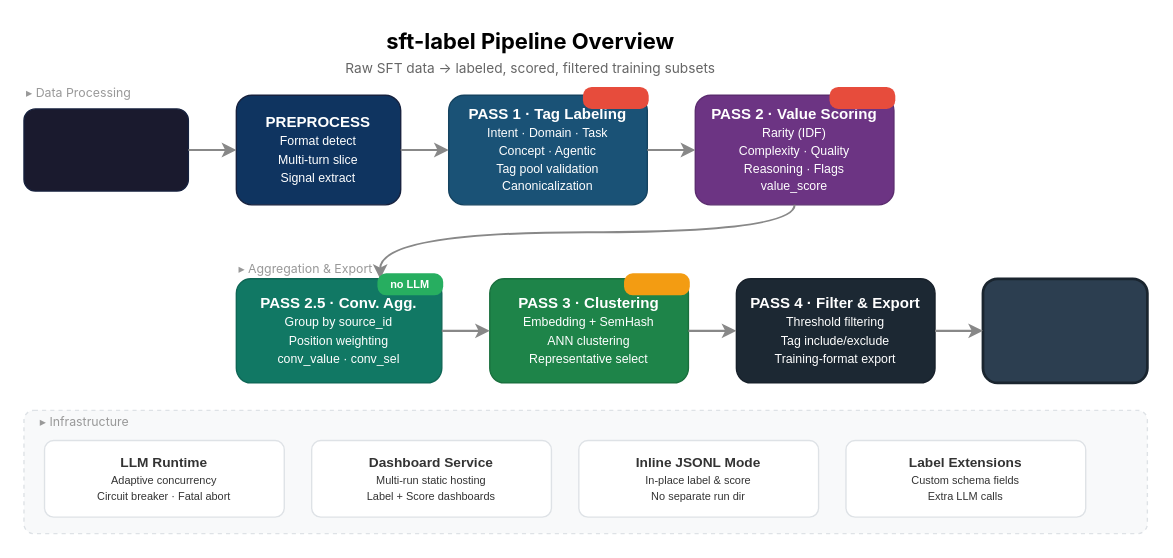
Some shapes in this 1173 by 558 pixel diagram are drawn without their labels. The centre of each missing label's shape, as x and y in pixels:
"INPUT ShareGPT / Pangu JSON · JSONL" belongs at [105,149].
"LLM ×1" belongs at [862,97].
"LLM ×2" belongs at [615,97].
"optional" belongs at [656,284].
"OUTPUT labeled.json scored.json conv_scores.json HTML dashboards" belongs at [1064,330].
